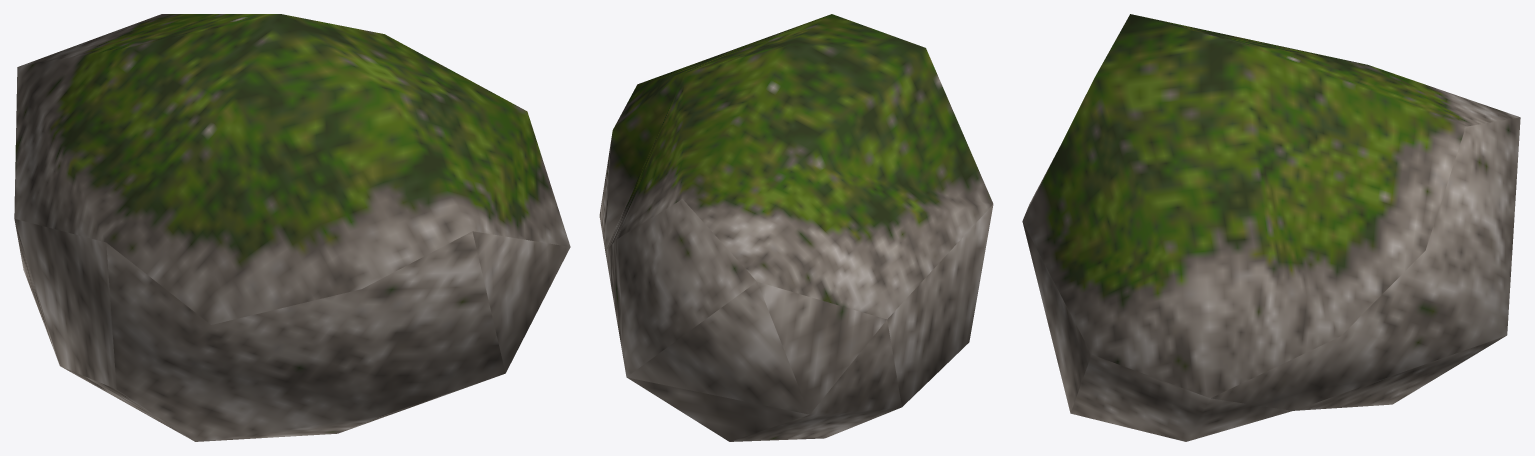
File: lboulderswa_1.dae
3 views of the same model, side by side, from view 1: azimuth 30°, elevation 25°; view 2: azimuth 150°, elevation 25°; view 3: azimuth 270°, elevation 25° (orthographic). The views are drawn at different scales.
Visible parts, largest first — view 1: lboulderswa_1; view 2: lboulderswa_1; view 3: lboulderswa_1.
Boxes of the visible parts, x1,y1,x2,y2 form: lboulderswa_1: [14, 14, 570, 441]; lboulderswa_1: [599, 14, 993, 441]; lboulderswa_1: [1022, 14, 1520, 441].
Bounding box in the file's own units: 2.08 × 2.17 × 1.76.
Materials: 1 (1 with a texture image).
